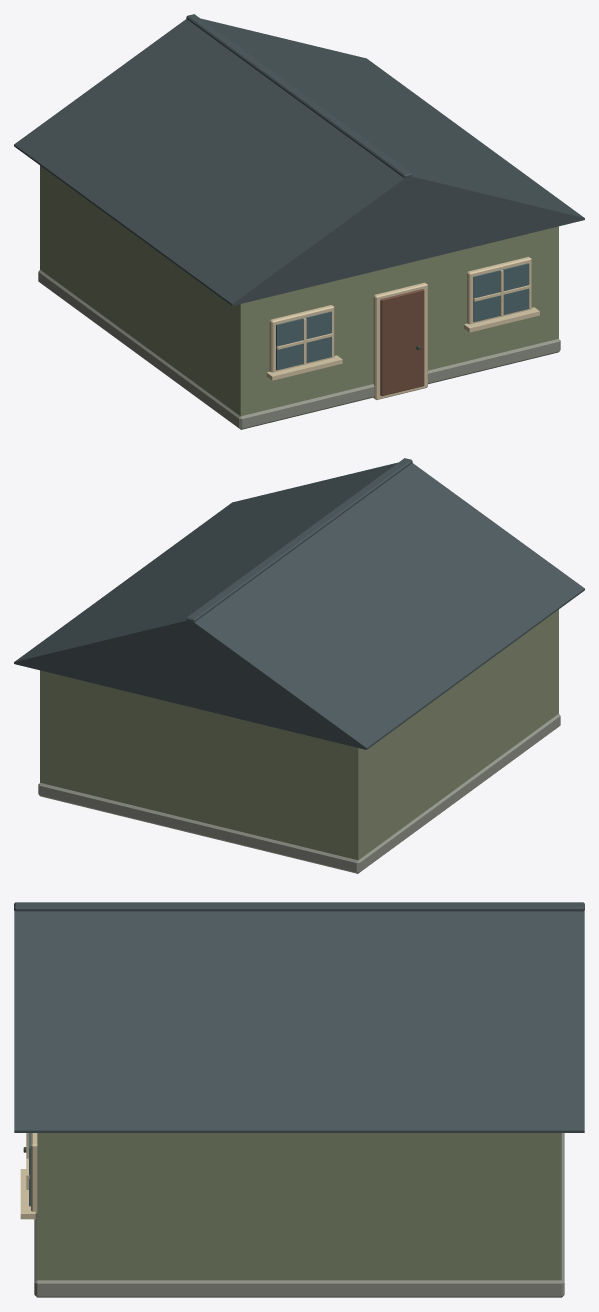
File: one_story_cottage.glb
The picture shows the model from 3 angles, top to bottom: view 1: azimuth 30°, elevation 25°; view 2: azimuth 150°, elevation 25°; view 3: azimuth 270°, elevation 25°; orthographic projection. The views are drawn at different scales.
Visible parts, largest first — view 1: one_story_cottage; view 2: one_story_cottage; view 3: one_story_cottage.
Boxes of the visible parts, x1,y1,x2,y2 form: one_story_cottage: (14, 14, 584, 429); one_story_cottage: (14, 458, 584, 873); one_story_cottage: (14, 902, 584, 1297).
Size of the model in its own units: 8.12 by 4.95 by 8.71.
